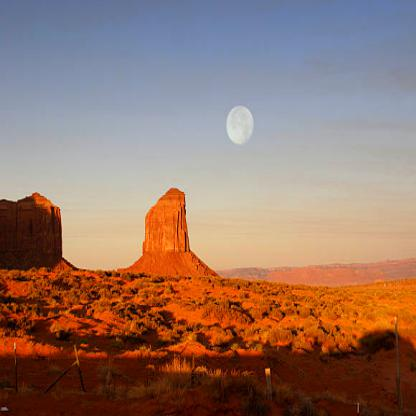Sedimentary_Sandstone: (0, 193, 63, 263), (140, 179, 196, 245)
